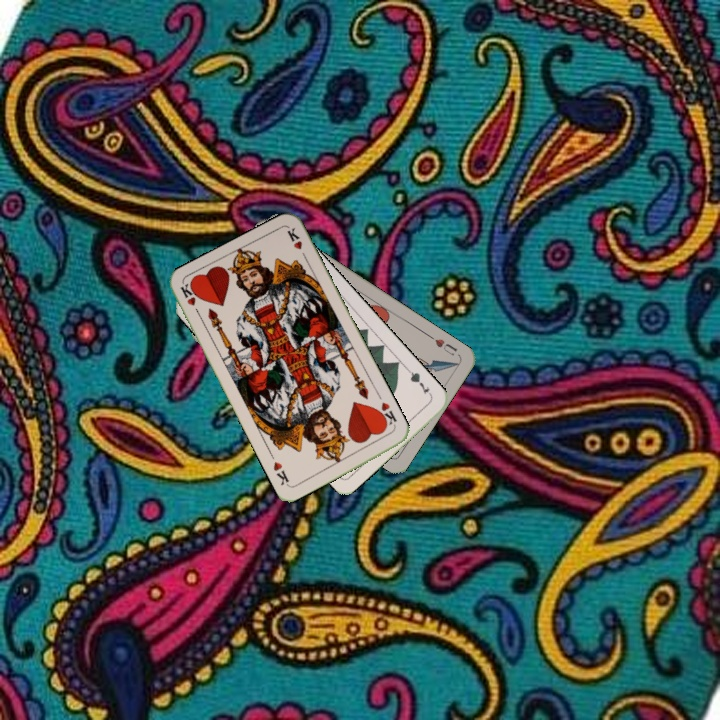G7: (404, 366, 435, 399)
HK: (176, 280, 203, 319), (373, 398, 399, 431)
HU: (425, 332, 460, 358)
